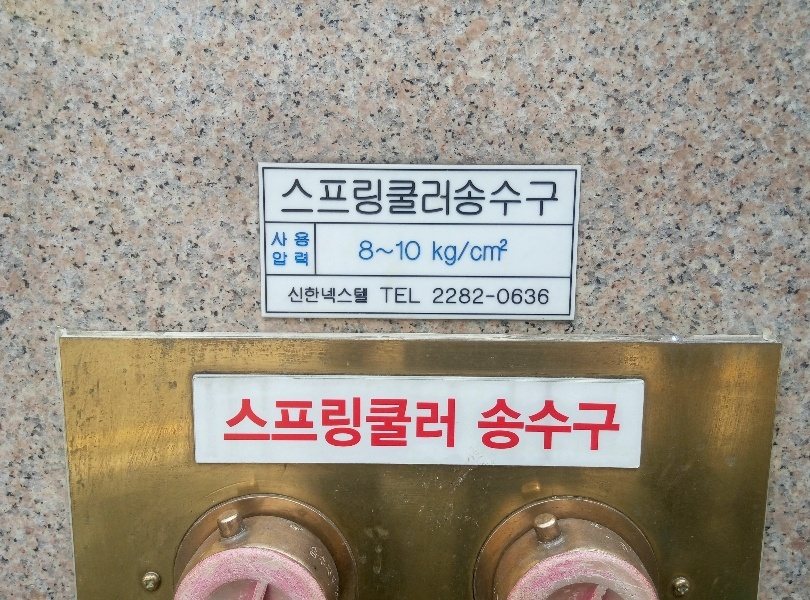text: (481, 396, 496, 456), (497, 396, 512, 456), (513, 396, 528, 456), (529, 396, 544, 456), (545, 396, 560, 456), (561, 396, 576, 456), (577, 396, 592, 456), (593, 396, 608, 456), (609, 396, 624, 456), (241, 396, 256, 453), (257, 396, 272, 453), (273, 396, 288, 453), (289, 396, 304, 453), (305, 396, 320, 453), (321, 396, 336, 453), (337, 396, 352, 453), (353, 396, 368, 453), (369, 396, 384, 453), (385, 396, 400, 453), (401, 396, 416, 453), (417, 396, 432, 453), (433, 396, 448, 453), (227, 396, 240, 453), (289, 177, 304, 219), (305, 177, 320, 219), (321, 177, 336, 219), (337, 177, 352, 219), (353, 177, 368, 219), (369, 177, 384, 219), (385, 177, 400, 219), (401, 177, 416, 219), (417, 177, 432, 219), (433, 177, 448, 219), (465, 178, 480, 219), (481, 178, 496, 219), (497, 178, 512, 219), (513, 178, 528, 219), (529, 178, 544, 219), (545, 178, 559, 219), (452, 178, 464, 219), (433, 238, 448, 270), (449, 238, 464, 270), (465, 238, 480, 270), (481, 238, 496, 270), (449, 396, 456, 453), (497, 238, 509, 270), (279, 177, 288, 219), (369, 240, 384, 264), (385, 240, 400, 264), (401, 240, 416, 264), (433, 286, 448, 306), (449, 286, 464, 306), (465, 286, 480, 306), (481, 286, 496, 306), (497, 286, 512, 306), (513, 286, 528, 306), (529, 286, 544, 306), (289, 229, 304, 248), (273, 251, 288, 269), (289, 251, 304, 269), (305, 286, 320, 304), (337, 287, 352, 304), (353, 287, 368, 304), (385, 287, 400, 304), (401, 287, 416, 304), (275, 229, 288, 248), (358, 240, 368, 264), (322, 287, 336, 304), (293, 286, 304, 304), (417, 240, 422, 264), (305, 229, 311, 248), (449, 177, 451, 219), (545, 286, 549, 306), (305, 251, 309, 269), (380, 287, 384, 304), (417, 287, 421, 304), (479, 396, 480, 456), (431, 238, 432, 270), (271, 251, 272, 269)
